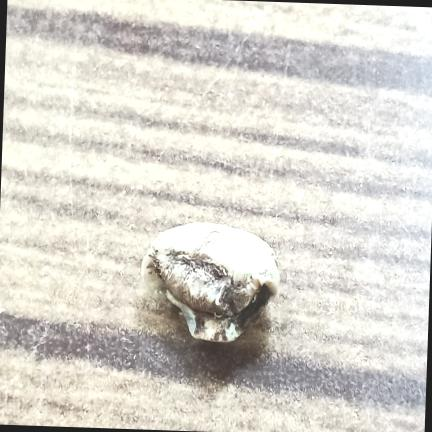broken: (141, 223, 280, 342)
